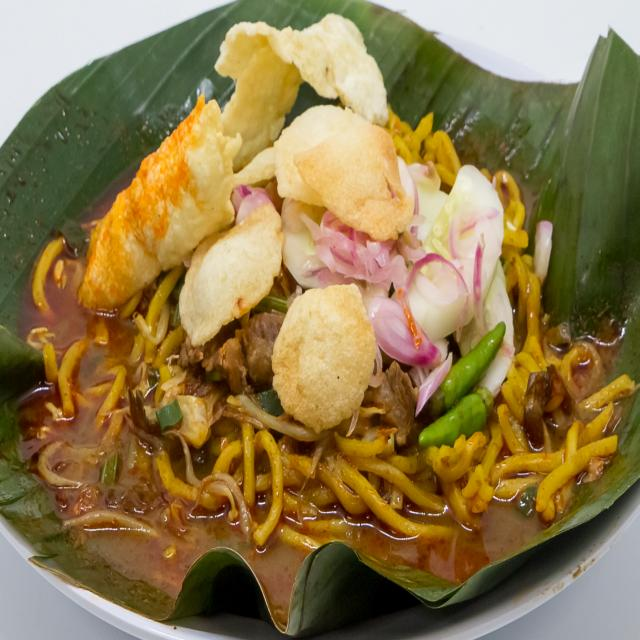Mie-Aceh: (30, 6, 627, 583)
